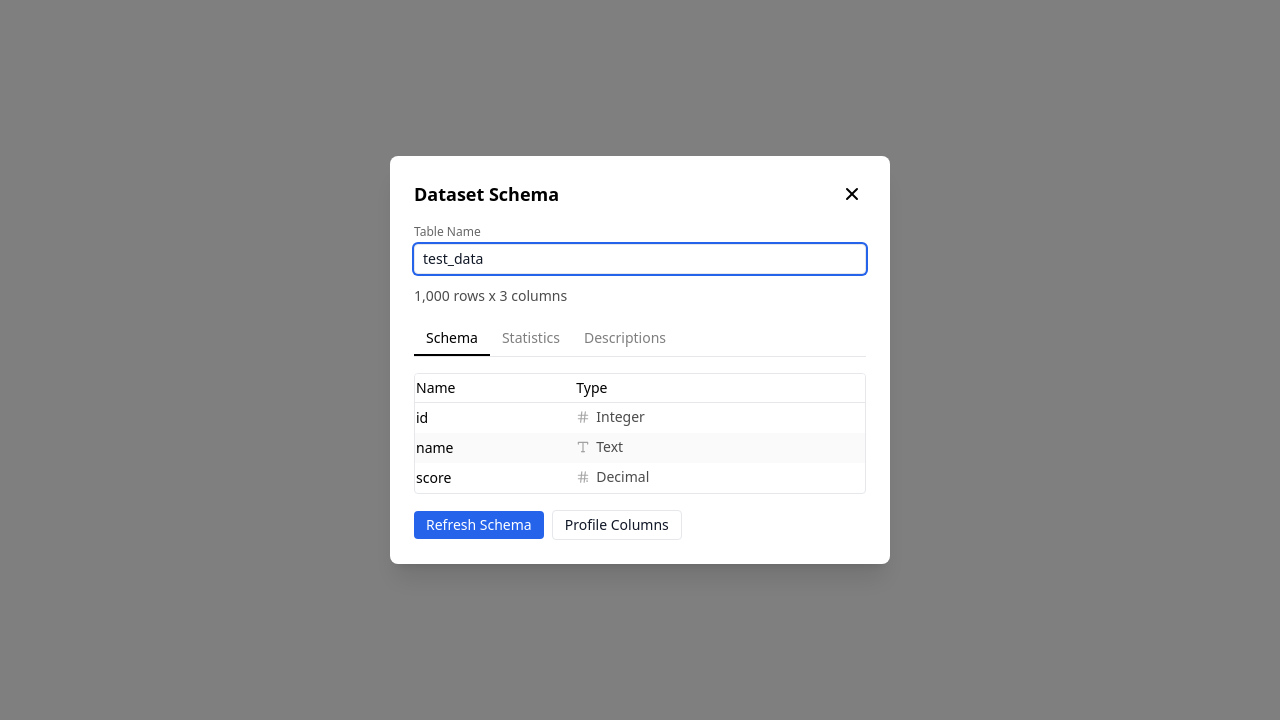
Test: SM-STATS-TAB-1: Tab switching between Schema and Statistics › switches to Statistics tab on click
The image size is (1280, 720).
Click the button with test id "schema-tab-stats". click: [531, 339]
box: [490,322,572,356]
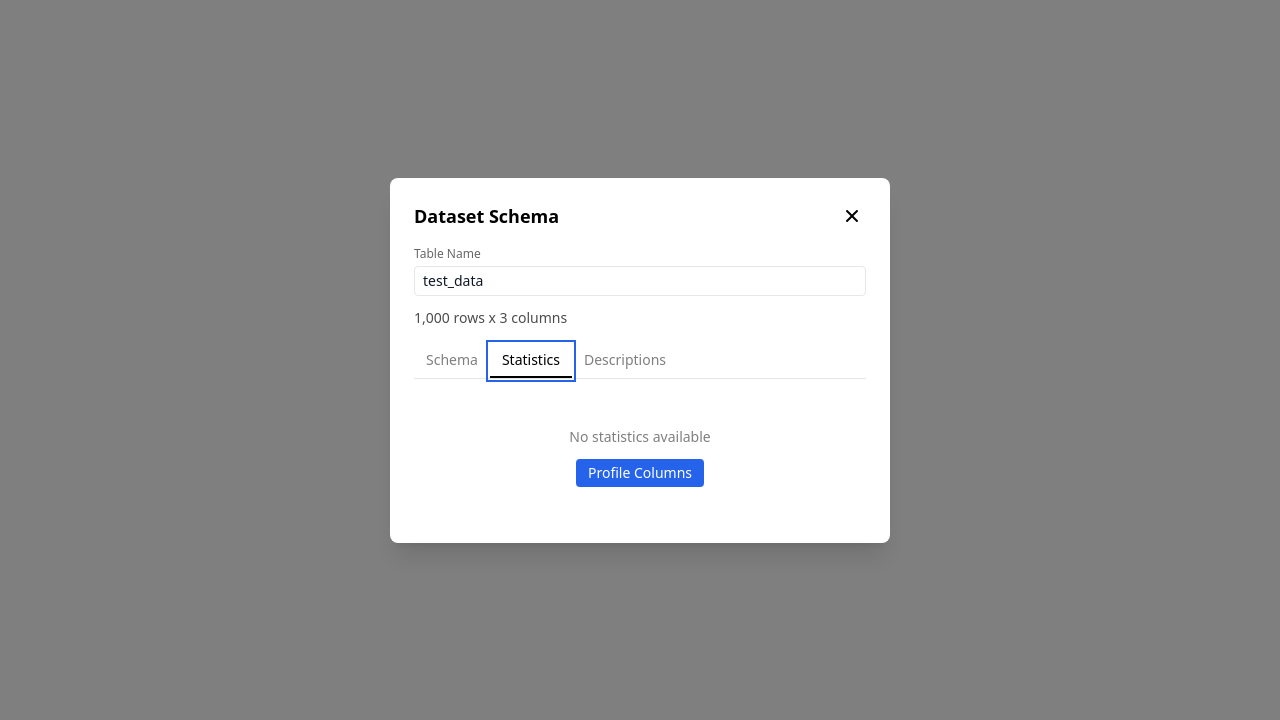
Expected: the element with test id "stats-tab-content" is shown, [569,426,711,486]
Expected: the element with test id "schema-column-table-container" is gone
